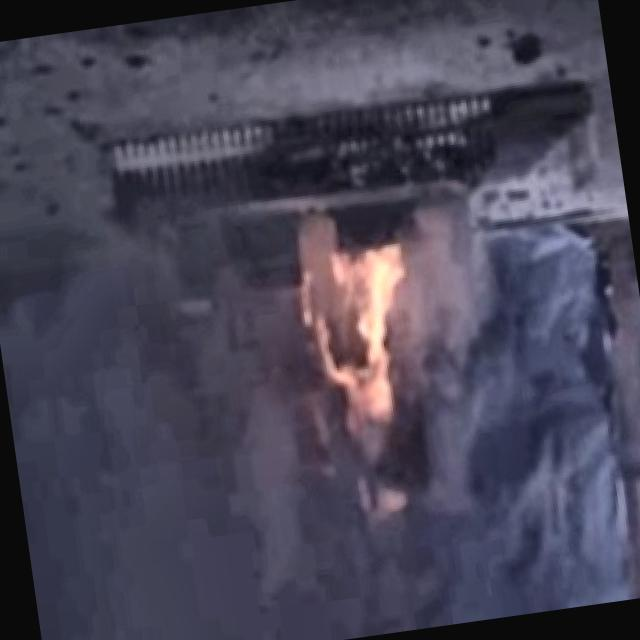fire: (290, 217, 431, 460)
